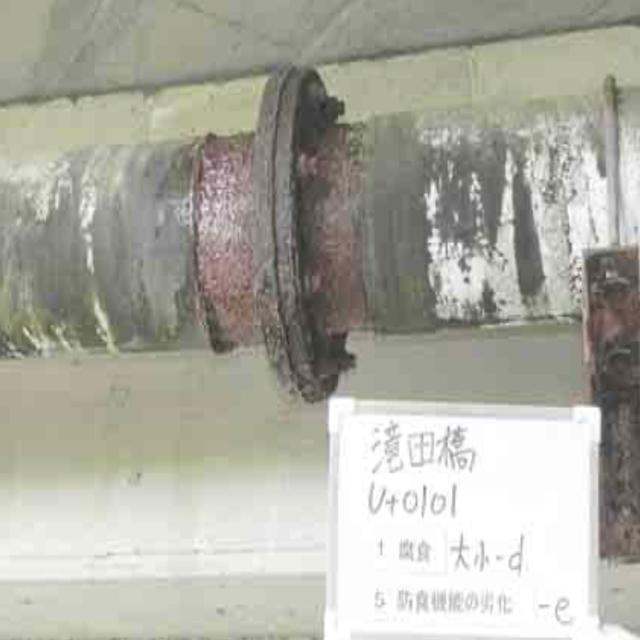corrosion: (168, 73, 383, 390)
